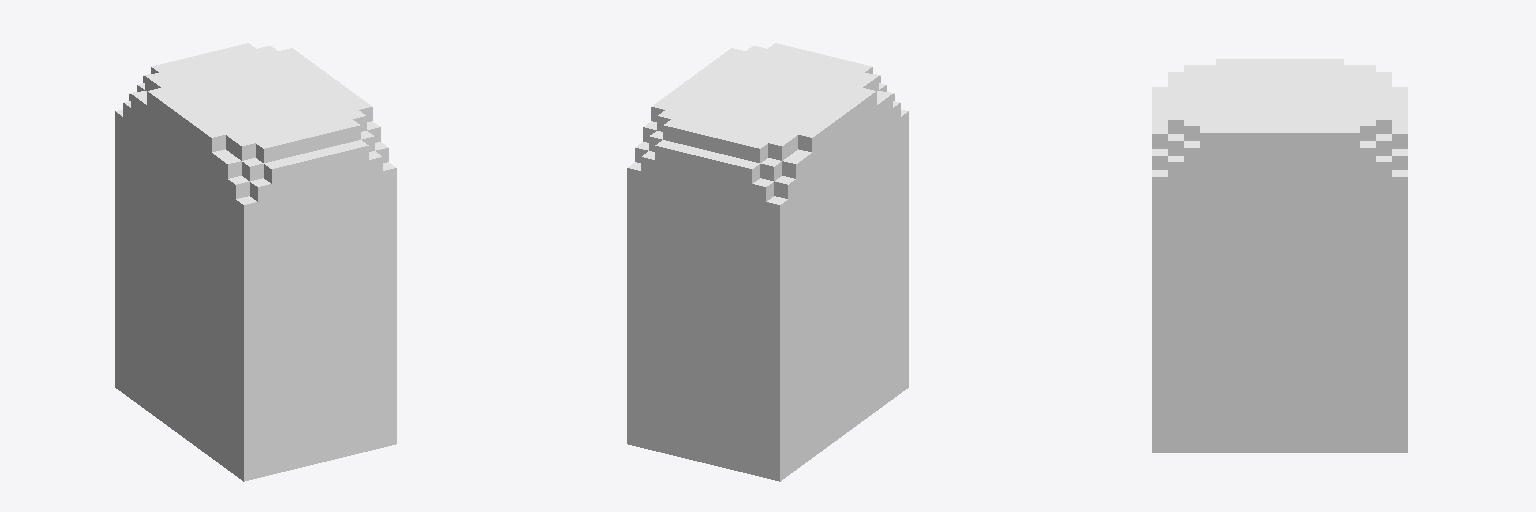
The model's file is merchant-3.obj.
3 renders of one model, left to right at view 1: azimuth 30°, elevation 25°; view 2: azimuth 150°, elevation 25°; view 3: azimuth 270°, elevation 25°, orthographic.
Visible parts, largest first — view 1: object 1; view 2: object 1; view 3: object 1.
Boxes of the visible parts, x1,y1,x2,y2 form: object 1: [115, 43, 396, 481]; object 1: [627, 43, 908, 481]; object 1: [1152, 59, 1407, 452].
Bounding box in the file's own units: 1.1 × 2.2 × 1.6.